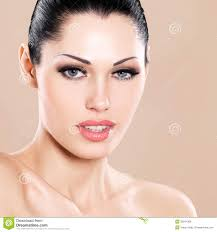white_female: (46, 43, 150, 149)
